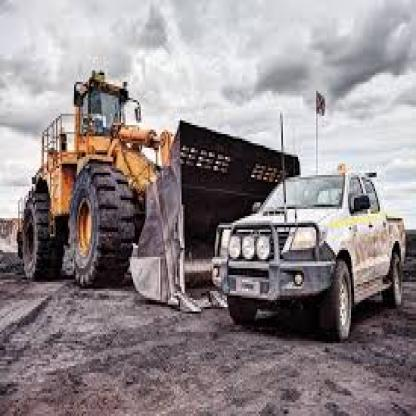bull_dozer/loader/grader: (0, 39, 283, 357)
light_vehicle: (202, 148, 402, 343)
